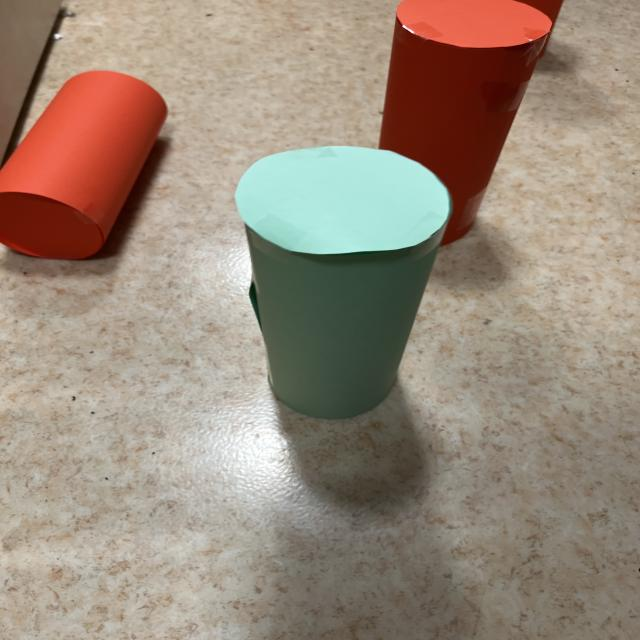meta: (235, 147, 451, 419)
przeszkoda: (378, 0, 563, 245), (0, 71, 167, 259)
